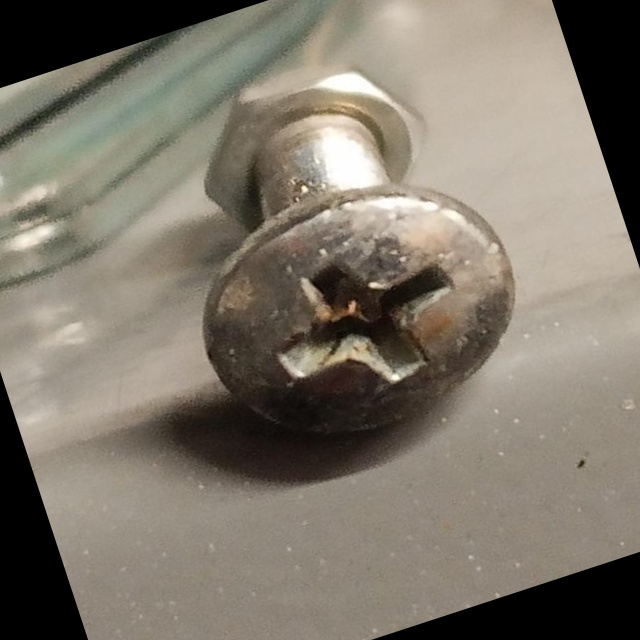phillips: (174, 155, 549, 473)
